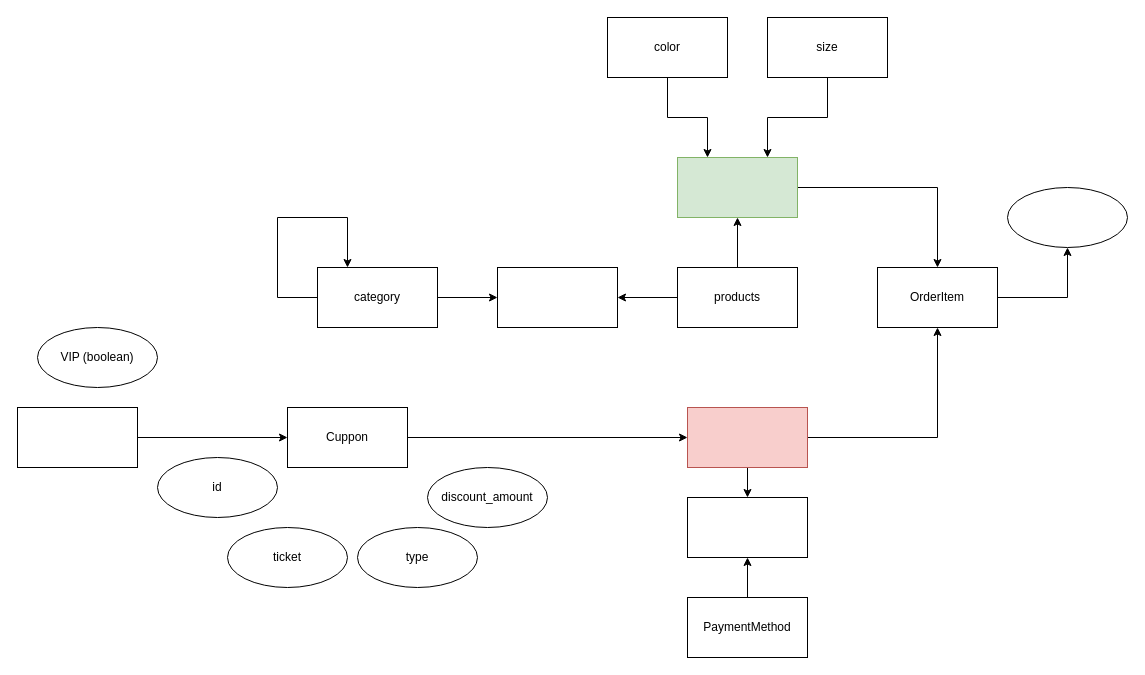
The diagram is 1145 pixels wide and 675 high, and some of its shapes have lost their labels. The centre of each missing label's shape, as x and y in pixels:
category_products: pixel 557 297
Order: pixel 747 437
Payment: pixel 747 527
price: pixel 1067 217
User: pixel 77 437
variant: pixel 737 187
